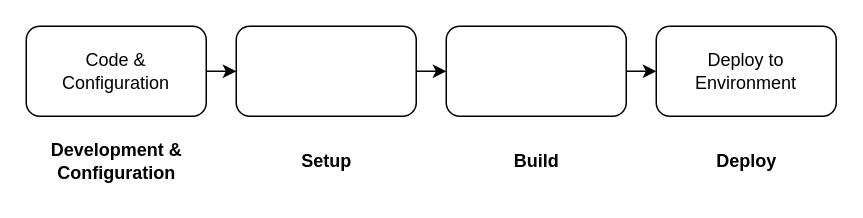
Image size: 863x218. Some labels were removed from this diagram. Each missing label, with the centre of its shape:
Build locally or remotely: pixel 535 70
Setup Environment &Builder: pixel 325 70
